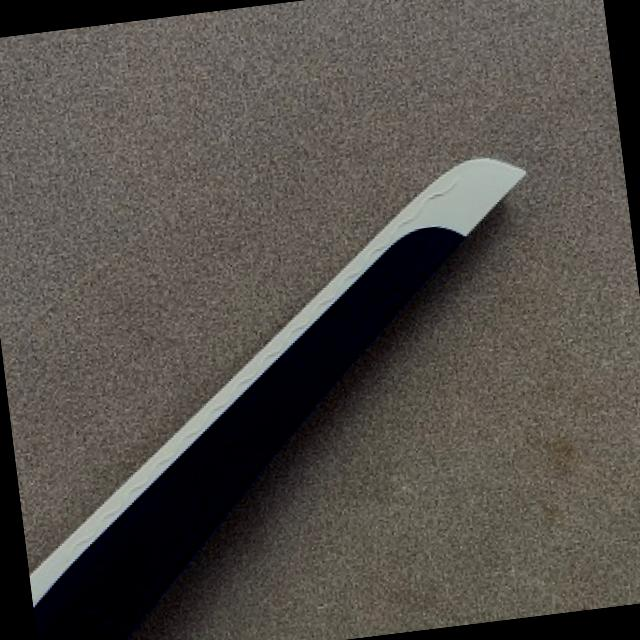healthy: (31, 157, 524, 640)
